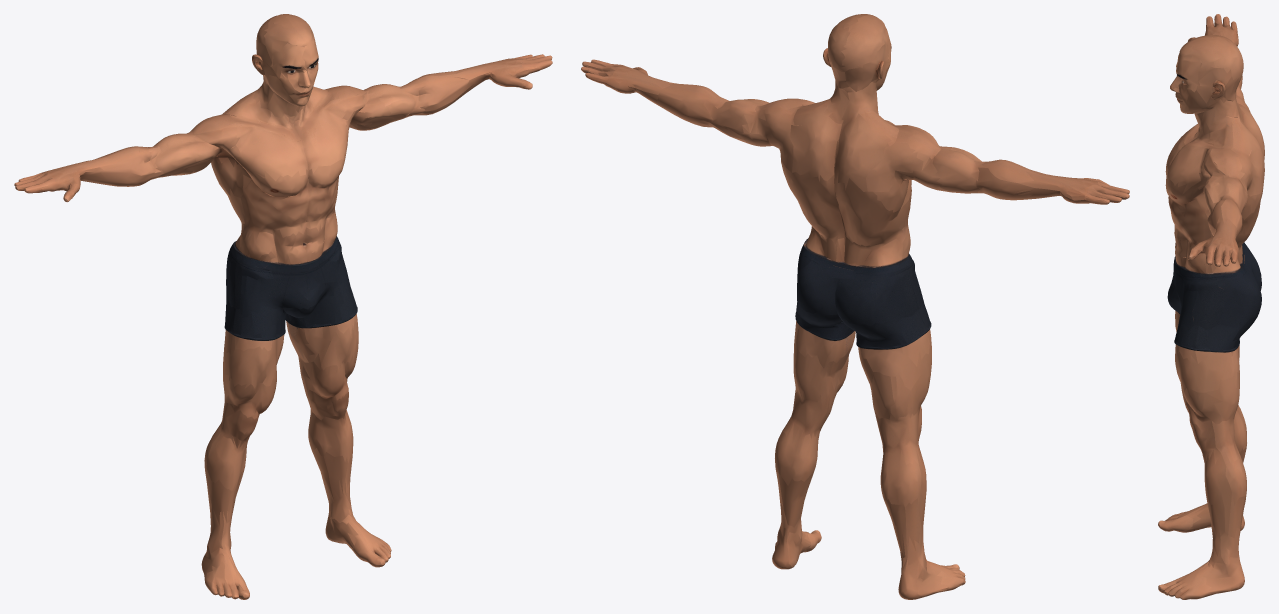
The model's file is base_male_underwear.glb.
The picture shows the model from 3 angles, left to right: view 1: azimuth 30°, elevation 25°; view 2: azimuth 150°, elevation 25°; view 3: azimuth 270°, elevation 25°; orthographic projection. The views are drawn at different scales.
Size of the model in its own units: 1.9 by 1.86 by 0.343.
1 material, 1 textured.
